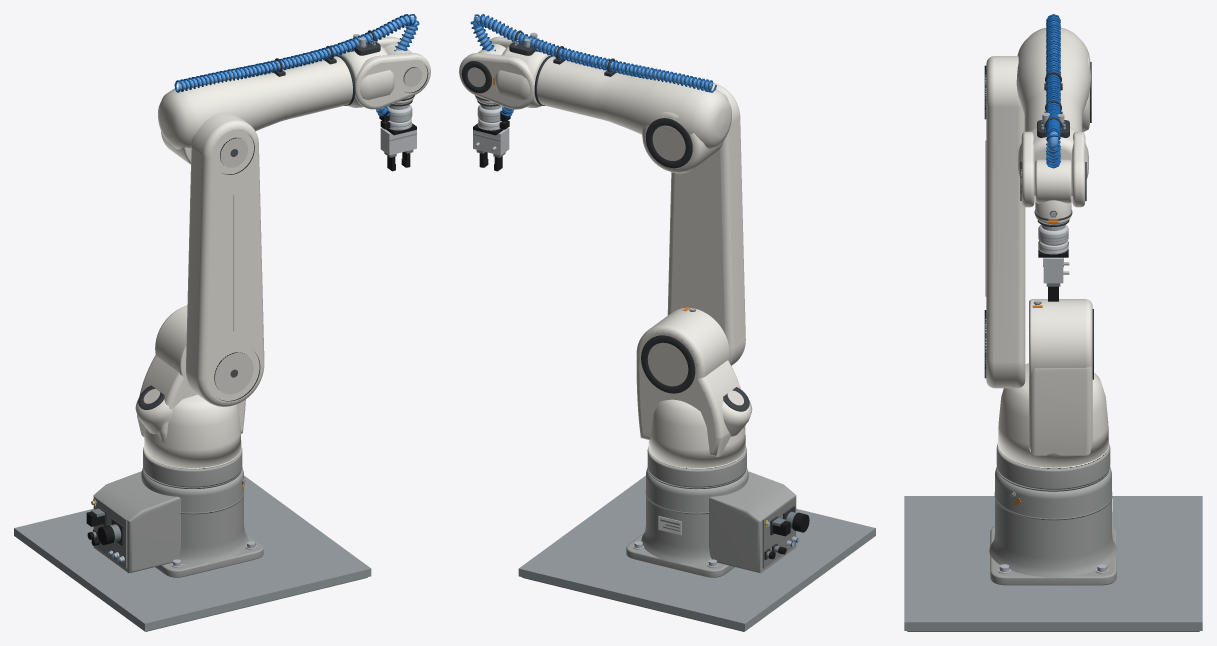
The model's file is kuka.glb.
The picture shows the model from 3 angles, left to right: view 1: azimuth 30°, elevation 25°; view 2: azimuth 150°, elevation 25°; view 3: azimuth 270°, elevation 25°; orthographic projection. The views are drawn at different scales.
Visible parts, largest first — view 1: m10, m0, m16, m12, m13, m4, m14, m5, m7, m17; view 2: m10, m0, m16, m4, m12, m13, m14, m5, m17, m7; view 3: m10, m0, m16, m13, m4, m5, m12, m2.
Boxes of the visible parts, x1,y1,x2,y2 form: m10: (135, 36, 430, 467); m0: (14, 475, 371, 631); m16: (93, 447, 263, 577); m12: (143, 67, 422, 469); m13: (108, 14, 419, 562); m4: (93, 30, 428, 545); m14: (176, 16, 416, 116); m5: (380, 104, 416, 155); m7: (86, 111, 416, 545); m17: (94, 490, 244, 568); m10: (459, 36, 752, 467); m0: (518, 475, 875, 631); m16: (626, 447, 796, 577); m4: (461, 30, 795, 559); m12: (467, 67, 746, 469); m13: (470, 14, 798, 546); m14: (473, 16, 714, 116); m5: (473, 104, 509, 155); m17: (645, 490, 795, 568); m7: (473, 110, 809, 559); m10: (986, 27, 1108, 467); m0: (904, 496, 1202, 630); m16: (989, 444, 1117, 585); m13: (1041, 14, 1065, 168); m4: (984, 62, 1108, 491); m5: (1038, 225, 1068, 283); m12: (985, 75, 1109, 469); m2: (998, 112, 1108, 573).
Bounding box in the file's own units: 0.7328 × 1.01 × 0.489.
